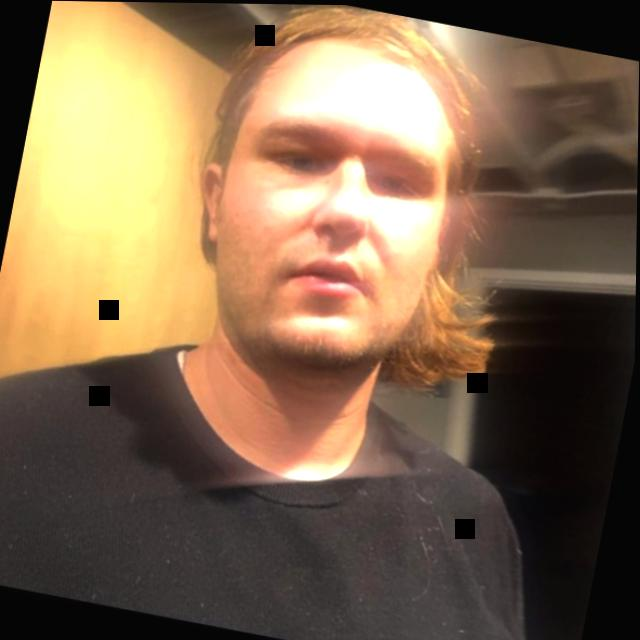NO-Mask: (137, 2, 539, 460)
